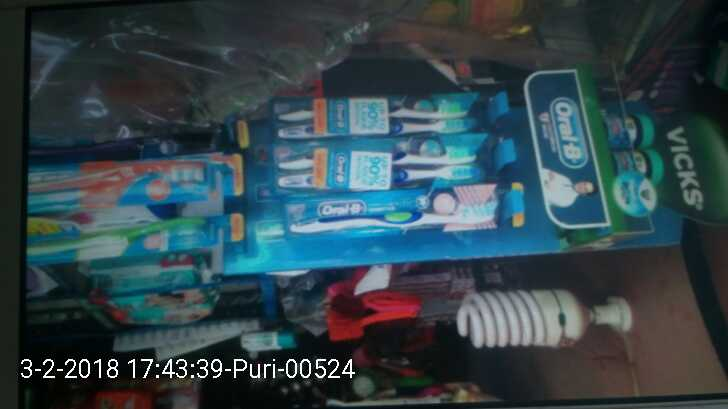oralb: (278, 191, 529, 232), (274, 97, 519, 134), (276, 143, 525, 179)
